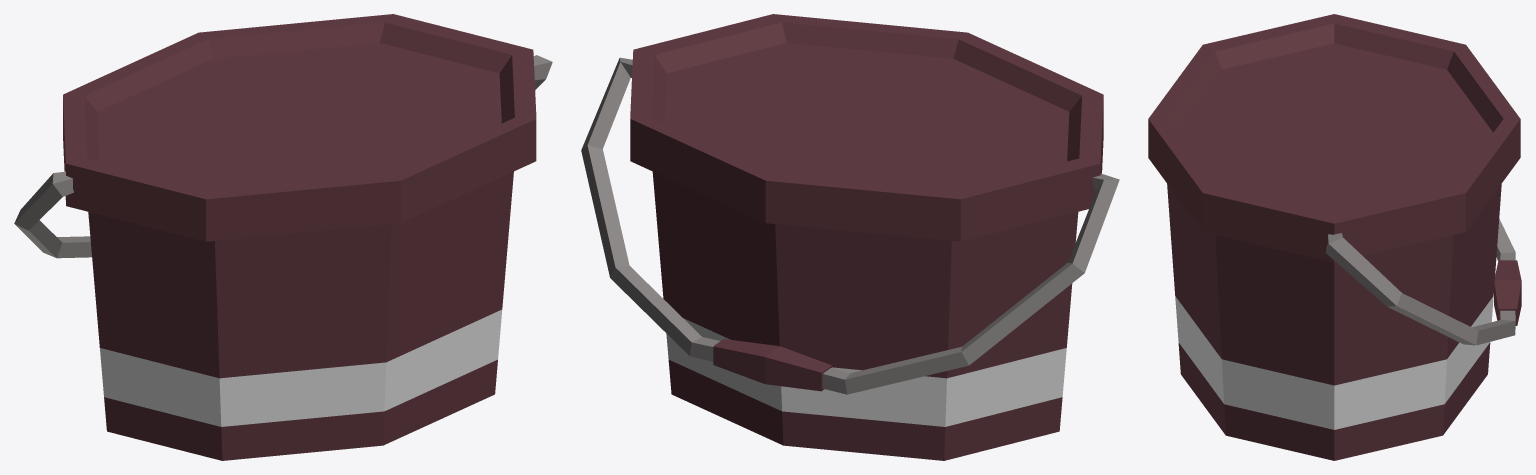
File: bucket-paint-medium.fbx
3 renders of one model, left to right at view 1: azimuth 30°, elevation 25°; view 2: azimuth 150°, elevation 25°; view 3: azimuth 270°, elevation 25°, orthographic. The views are drawn at different scales.
Parts seen in each view (by area): view 1: bucket-paint-medium; view 2: bucket-paint-medium; view 3: bucket-paint-medium.
Part boxes in pixels (x1,y1,x2,y2): bucket-paint-medium: (14, 14, 552, 460); bucket-paint-medium: (581, 14, 1119, 460); bucket-paint-medium: (1148, 14, 1521, 460).
Bounding box in the file's own units: 0.4743 × 0.25 × 0.331.
